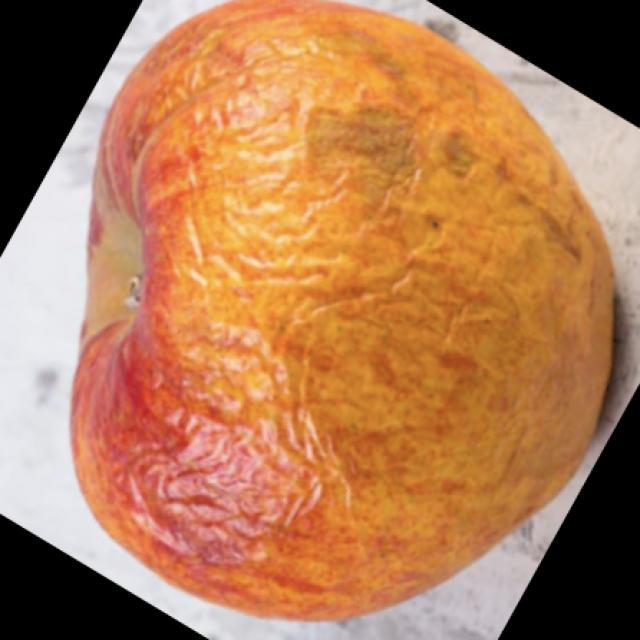Rotten: (63, 0, 618, 628)
